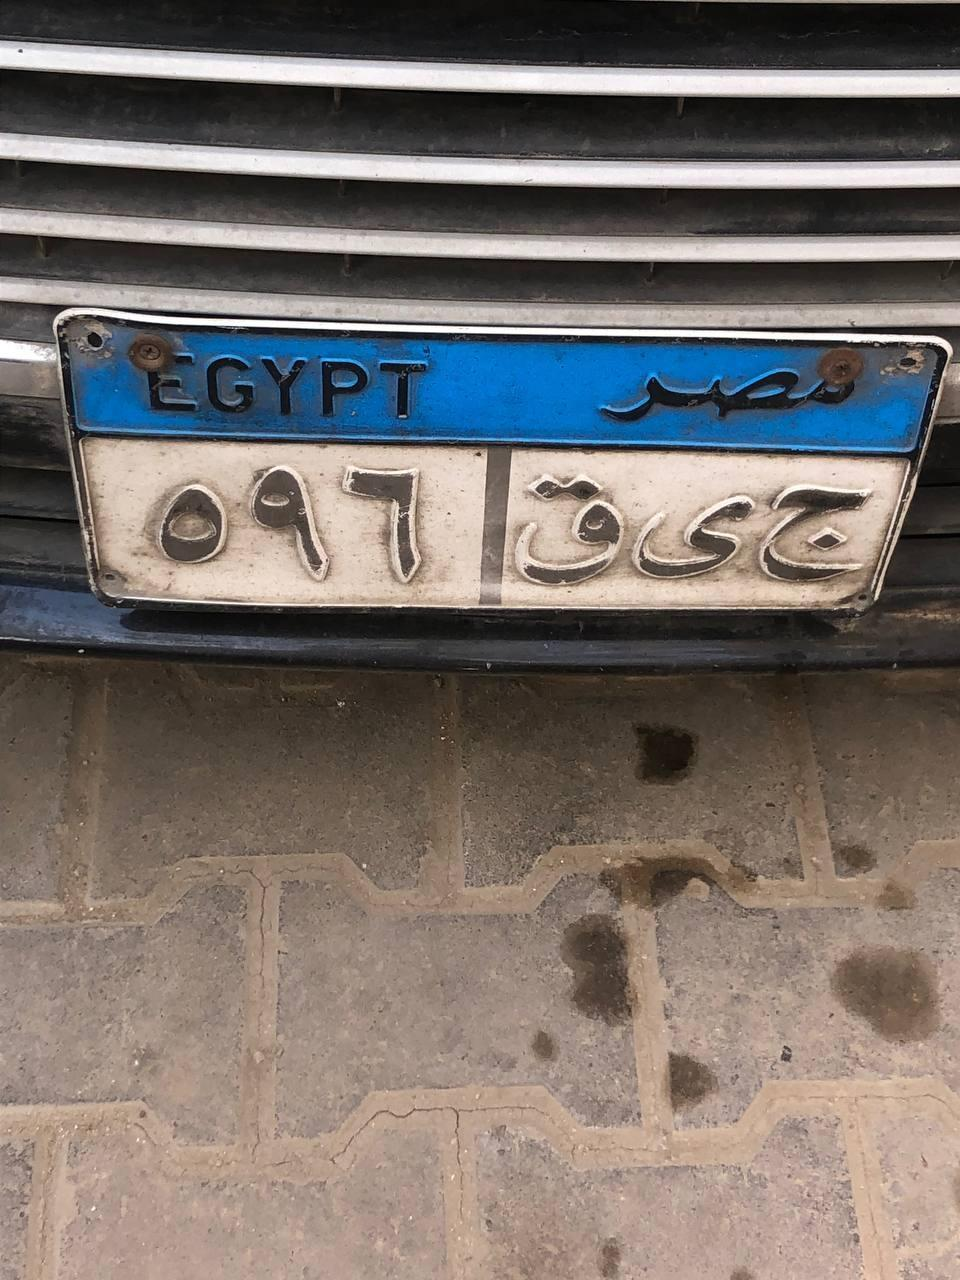5: (158, 474, 227, 562)
6: (342, 461, 429, 577)
9: (248, 451, 332, 573)
License Plate: (50, 303, 952, 622)
Q: (517, 468, 632, 590)
Yeeh: (633, 482, 754, 582)
geem: (764, 482, 868, 588)
